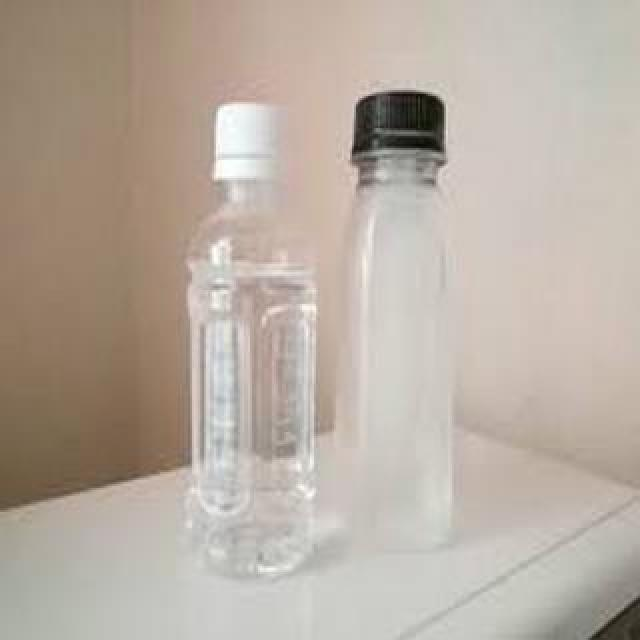Pet_Bottle: (171, 90, 339, 582)
